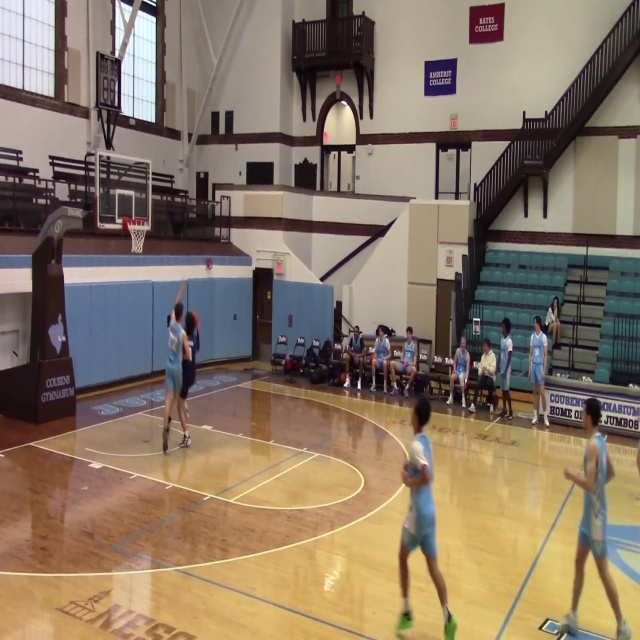Basketball: (401, 462, 427, 488), (183, 311, 199, 334)
